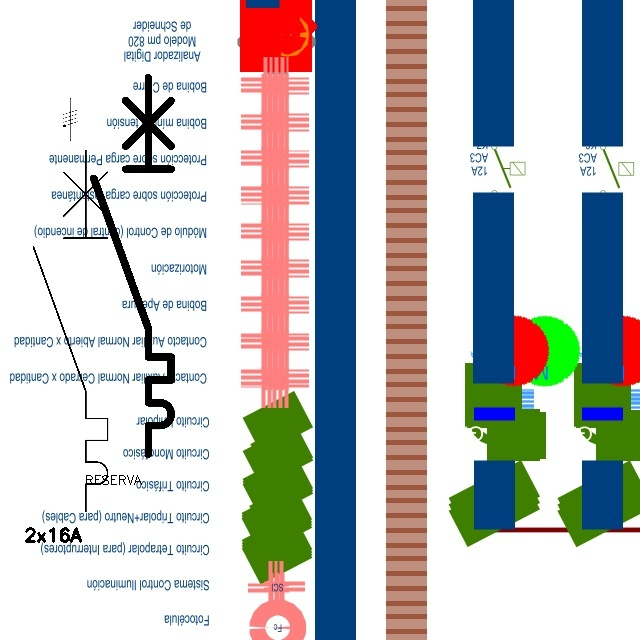interruptor_termomagnetico: (84, 68, 181, 464), (24, 141, 117, 521)
